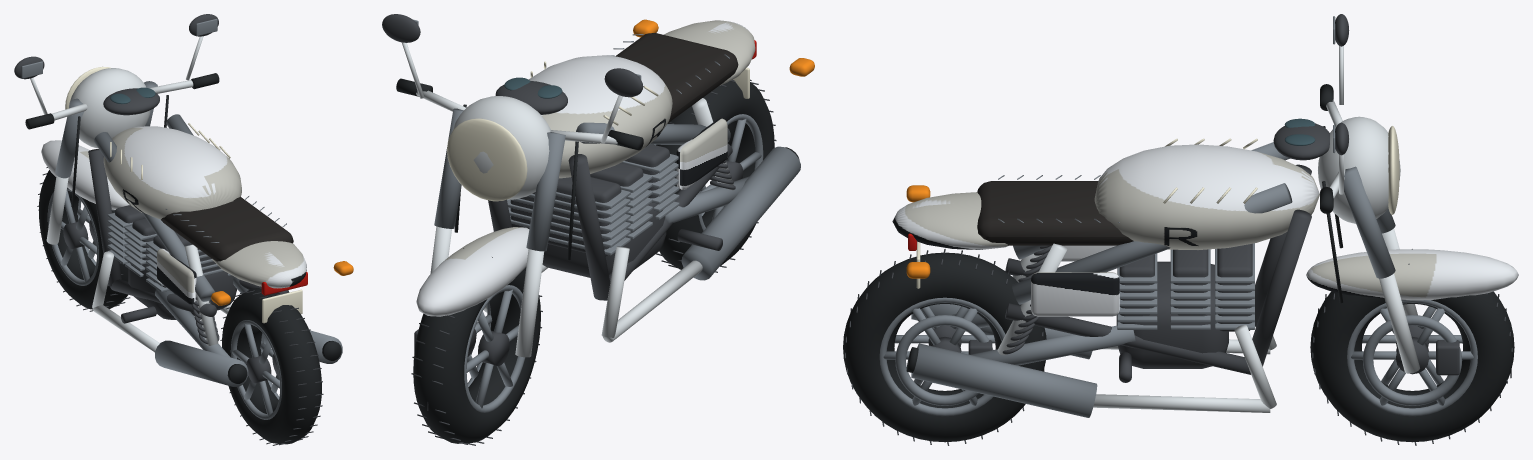
File: motorcycle.glb
The picture shows the model from 3 angles, left to right: view 1: azimuth 30°, elevation 25°; view 2: azimuth 150°, elevation 25°; view 3: azimuth 270°, elevation 25°; orthographic projection. The views are drawn at different scales.
Visible parts, largest first — view 1: Paint, Brushed steel, Rubber.001, Engine, Chrome, Seat leather, Rubber.002, Brushed steel.001, Brushed steel.002, Rubber, Headlight, Engine.001 (+3 smaller); view 2: Paint, Brushed steel, Engine, Chrome, Rubber.002, Headlight, Seat leather, Rubber.001, Brushed steel.002, Rubber, Engine.002, Brushed steel.001 (+3 smaller); view 3: Paint, Brushed steel, Engine, Rubber.001, Rubber.002, Chrome, Seat leather, Brushed steel.002, Brushed steel.001, Headlight, Rubber, Engine.002 (+2 smaller).
Part boxes in pixels (x1,y1,x2,y2): Paint: (41,126,306,304); Brushed steel: (21,18,342,386); Rubber.001: (222,288,321,444); Engine: (14,14,289,344); Chrome: (30,36,231,352); Seat leather: (161,196,293,261); Rubber.002: (38,170,128,309); Brushed steel.001: (230,320,281,419); Brushed steel.002: (47,187,98,285); Rubber: (25,73,341,383); Headlight: (65,66,302,323); Engine.001: (220,288,323,445); Paint: (416,20,755,316); Brushed steel: (413,19,800,280); Engine: (382,14,735,352); Chrome: (401,42,733,357); Rubber.002: (413,267,540,443); Headlight: (447,61,749,201); Seat leather: (615,33,738,122); Rubber.001: (656,79,774,269); Brushed steel.002: (464,285,525,412); Rubber: (396,78,799,259); Engine.002: (411,248,542,445); Brushed steel.001: (698,114,763,230); Paint: (892,144,1518,316); Brushed steel: (911,16,1395,417); Engine: (968,14,1459,382); Rubber.001: (843,252,1046,442); Rubber.002: (1310,291,1514,442); Chrome: (997,46,1419,412); Seat leather: (977,181,1133,245); Brushed steel.002: (1347,300,1477,416); Brushed steel.001: (879,297,1005,416); Headlight: (916,126,1399,288); Rubber: (906,84,1342,372); Engine.002: (1312,249,1512,445).
Size of the model in its own units: 1.02 by 1.37 by 2.28.
10 materials, 1 textured.
